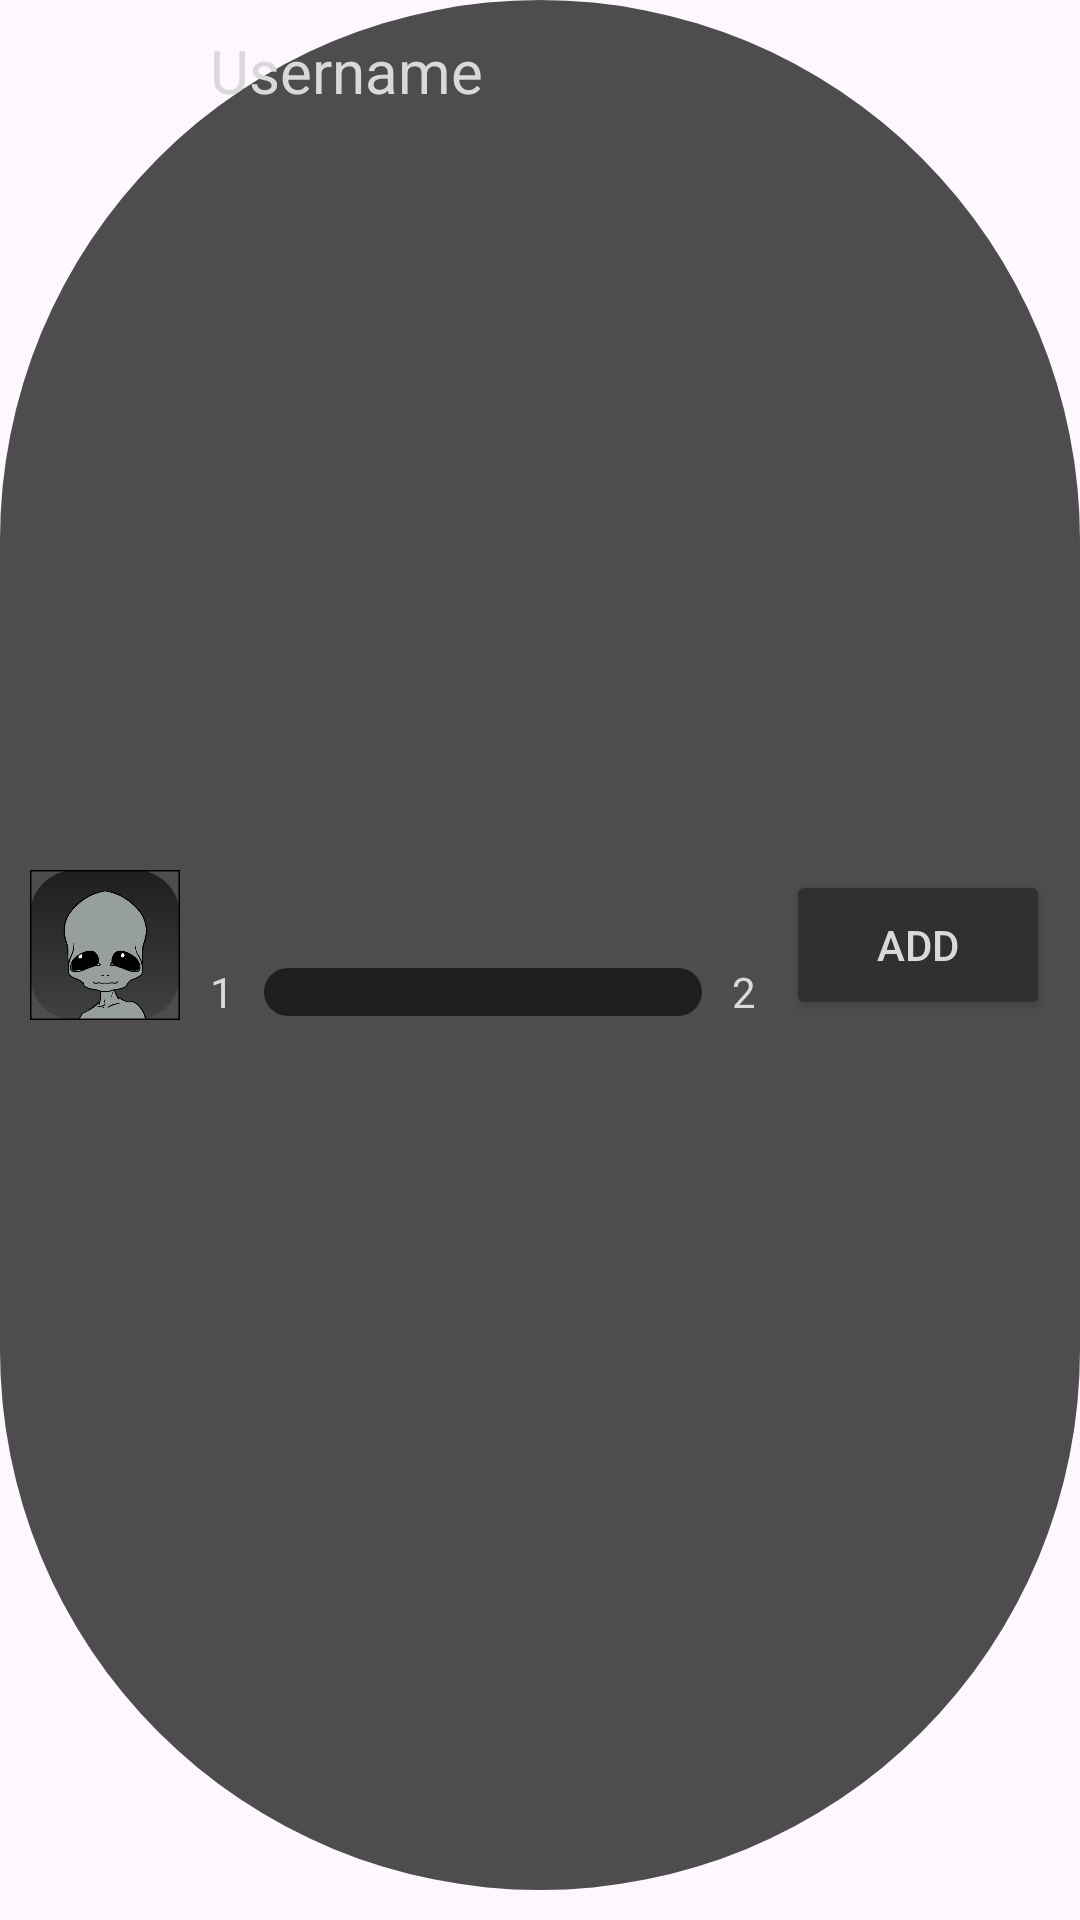

Locate icon controls on the screen. Image size 1080*1920, boxes as Rect(x1, y1, x2, y2).
alien: Rect(30, 870, 180, 1020)
